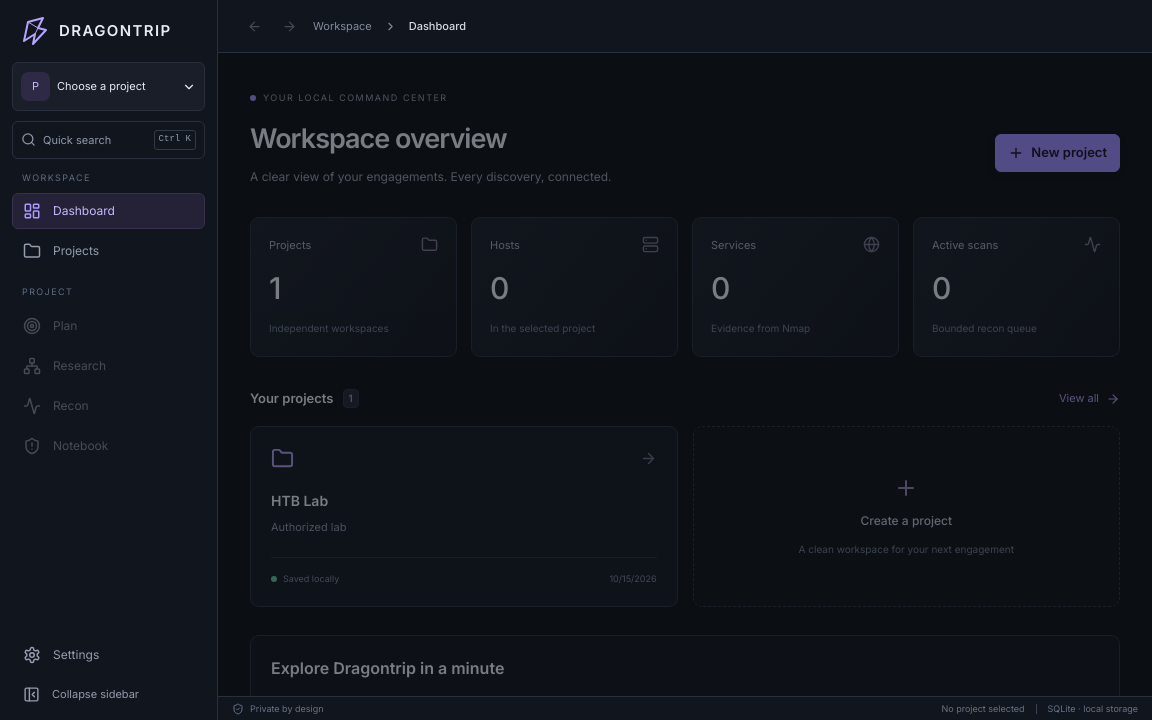
Test: workspace › opens command palette with Ctrl K and navigates
expect the heading "Workspace overview" is shown: met, box [250,121,507,154]
Press k
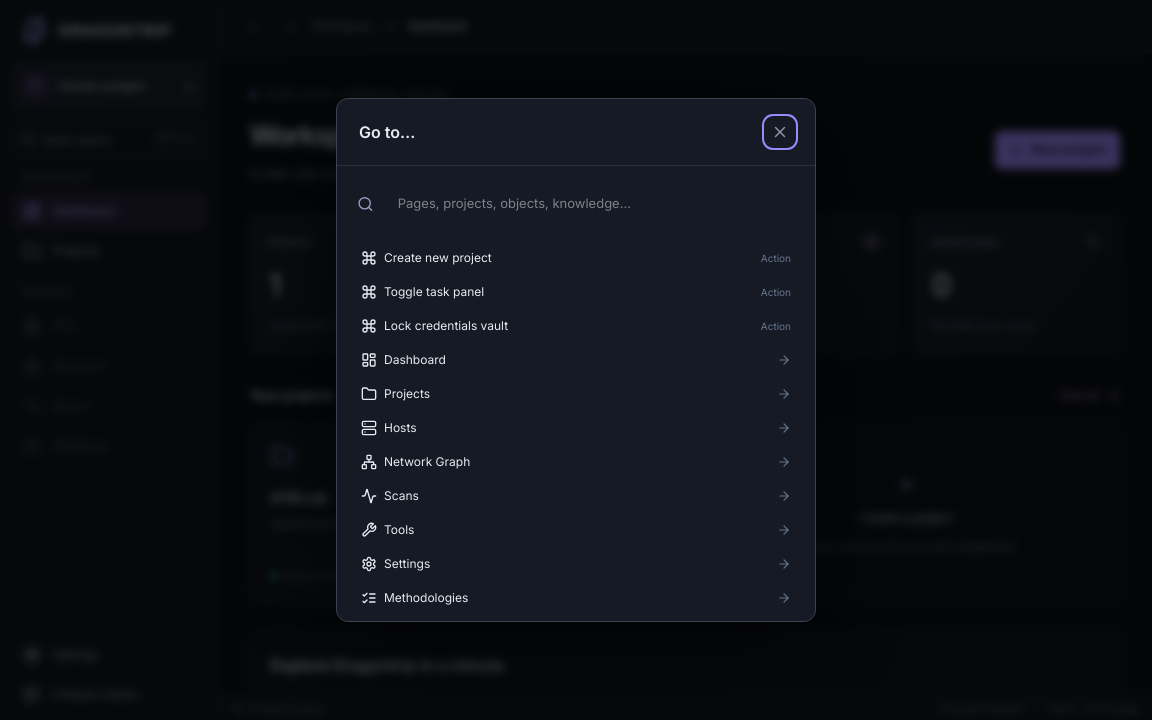
expect the dialog is shown: met, box [336,98,816,622]
Type "Tools" into the field named "Search commands" at x=590, y=204, box [386,184,795,223]
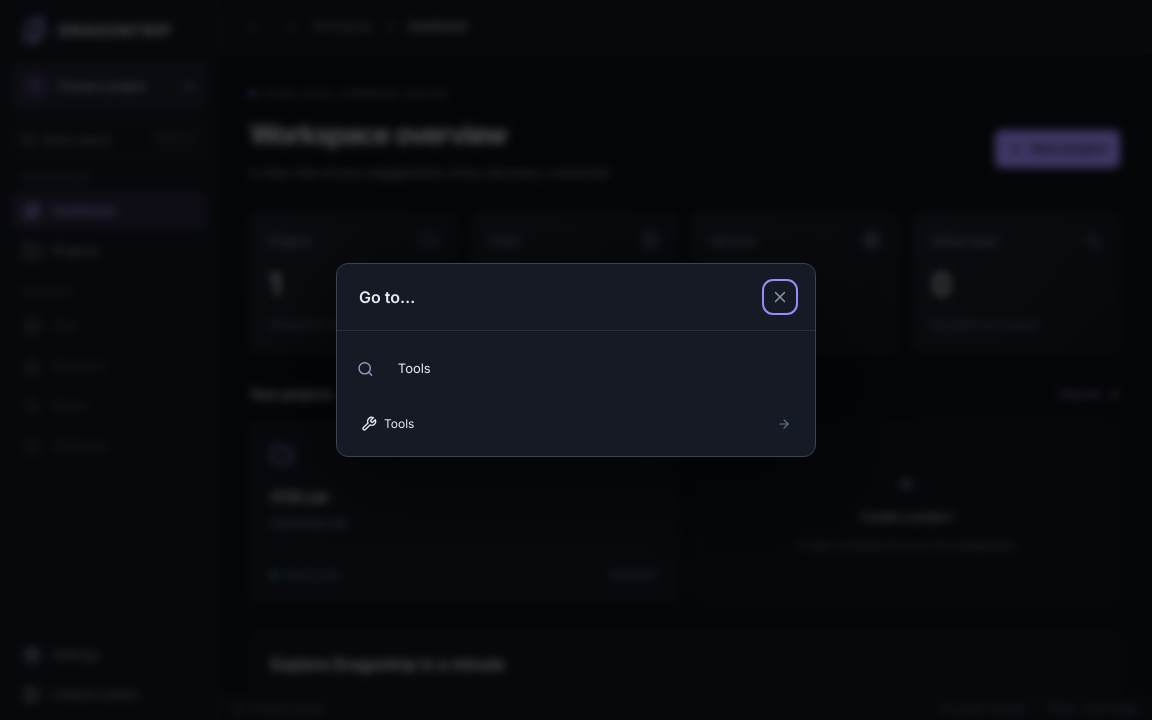
Click the button "Tools" at x=399, y=423, box [349,407,803,441]
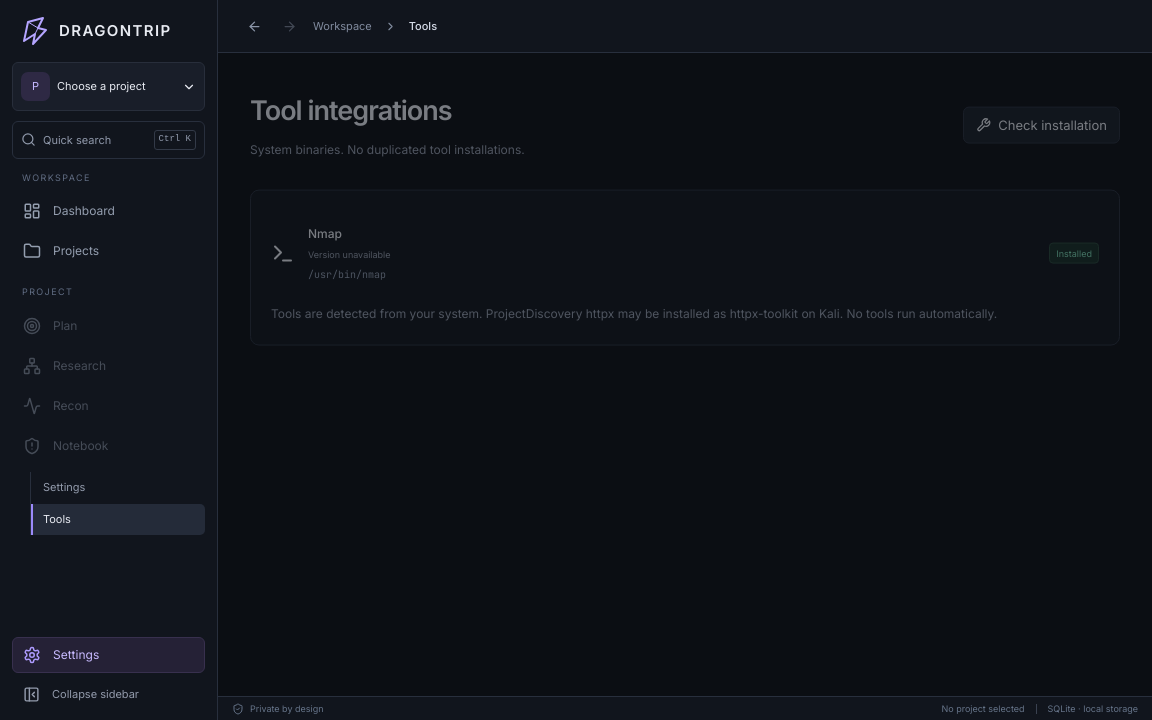
expect the heading "Tool integrations" is shown: met, box [250,94,452,127]
